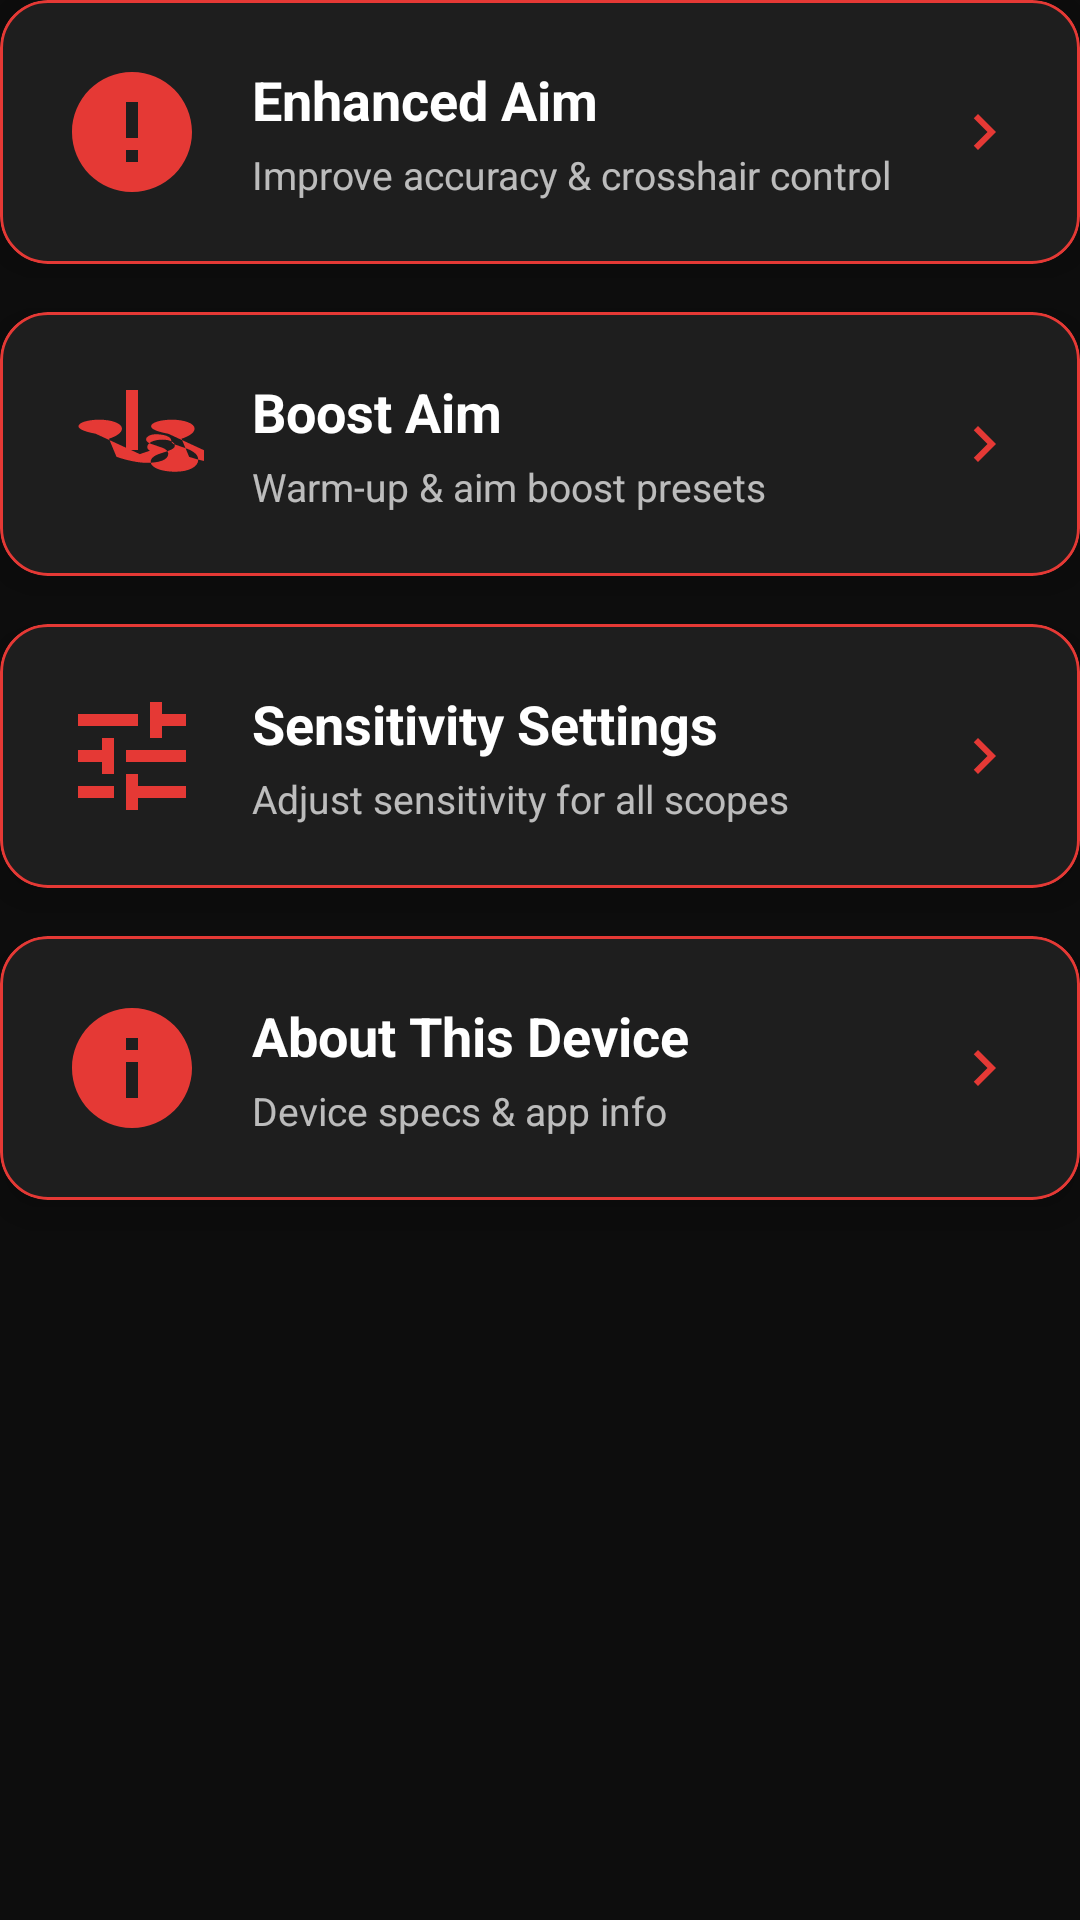

Where to tap for icons on this 1080*1920 app screen, as point (x, y):
chevron: point (985, 132), point (985, 444), point (985, 756), point (985, 1068)
